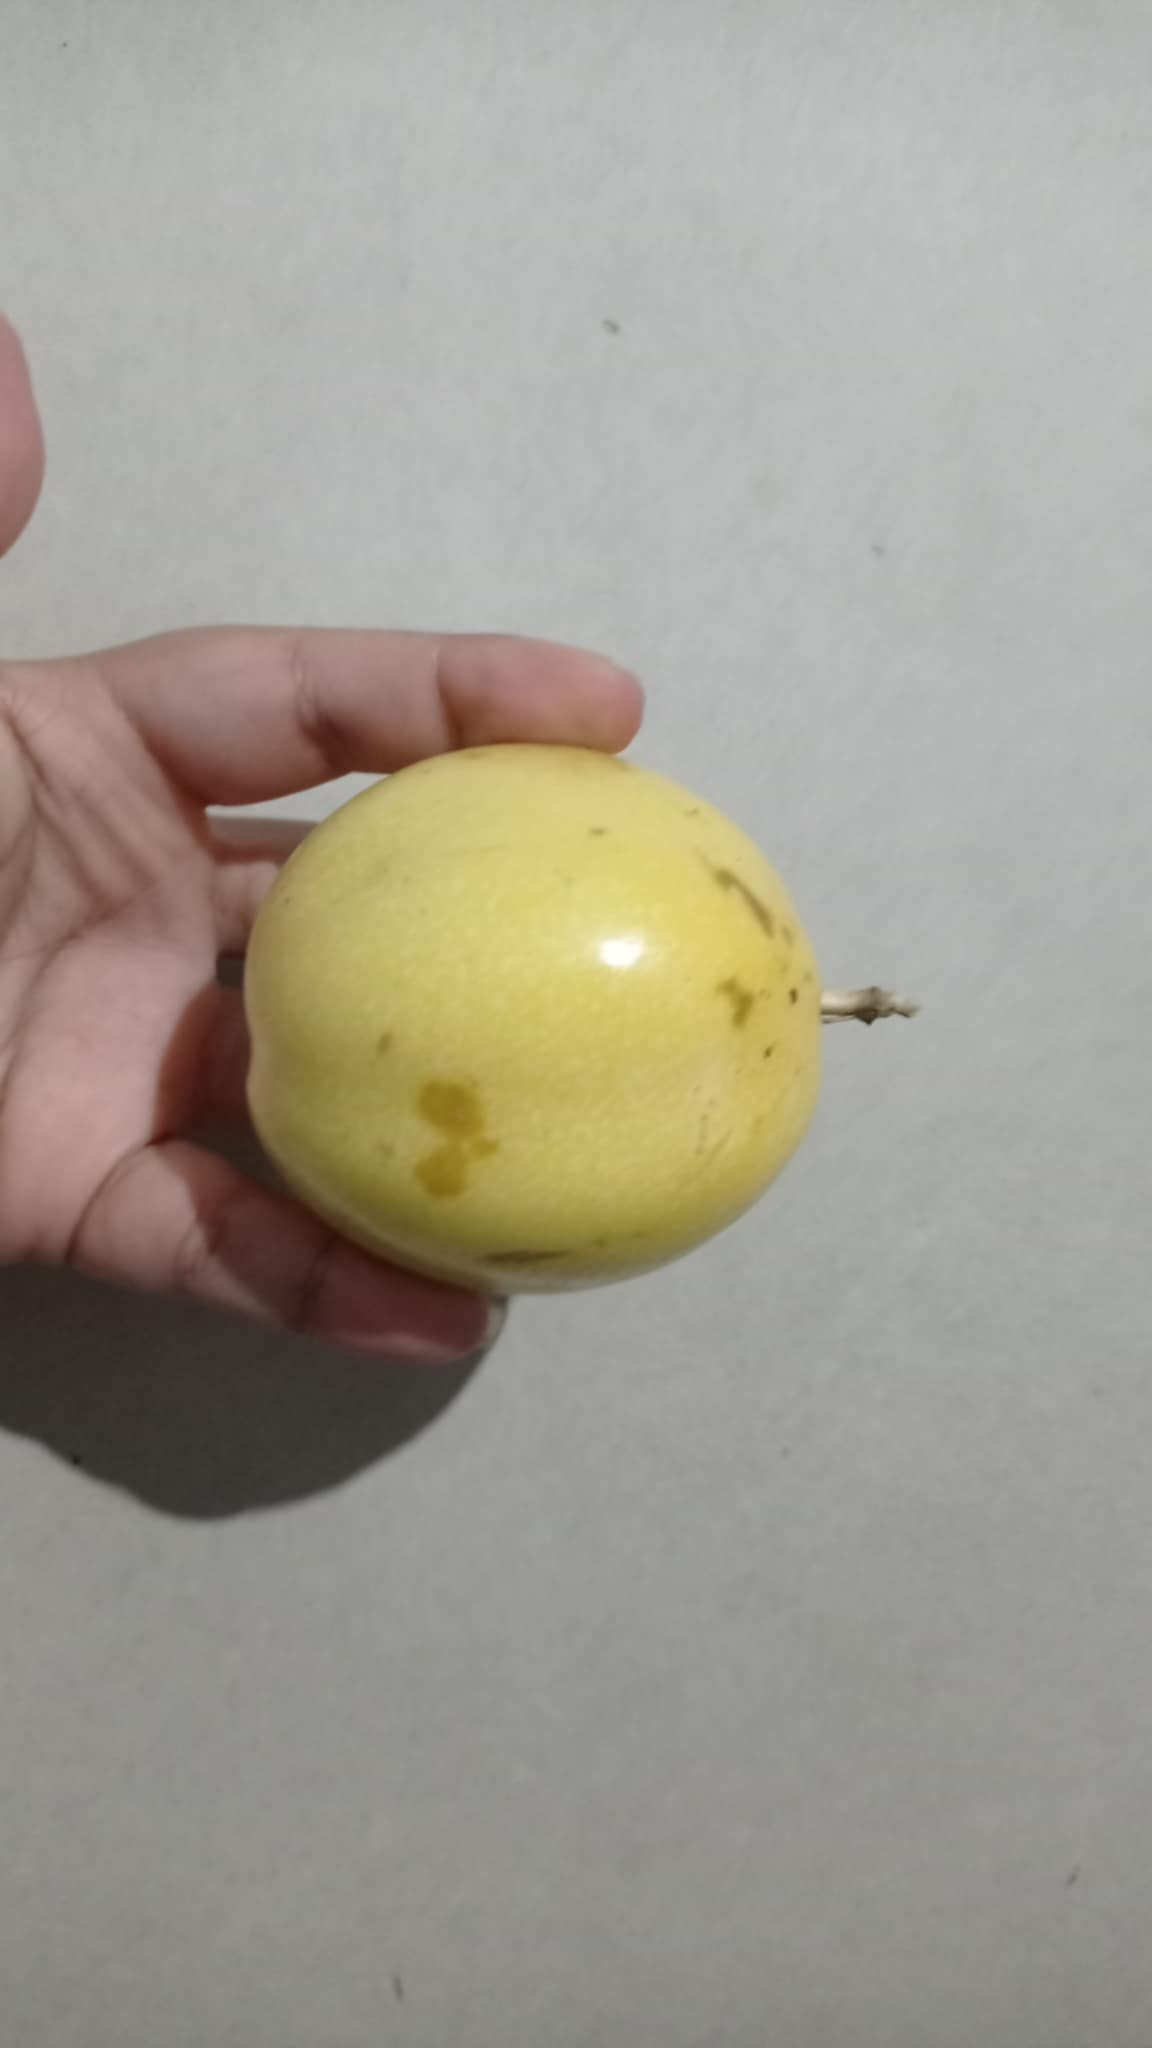maracuya: (232, 717, 933, 1317)
